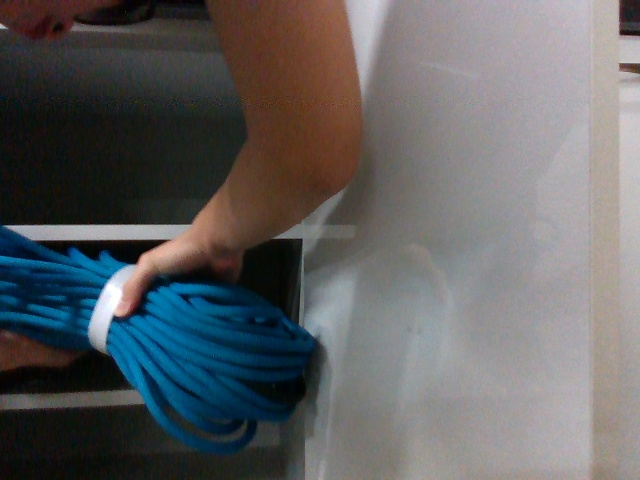rope: (1, 219, 328, 453)
